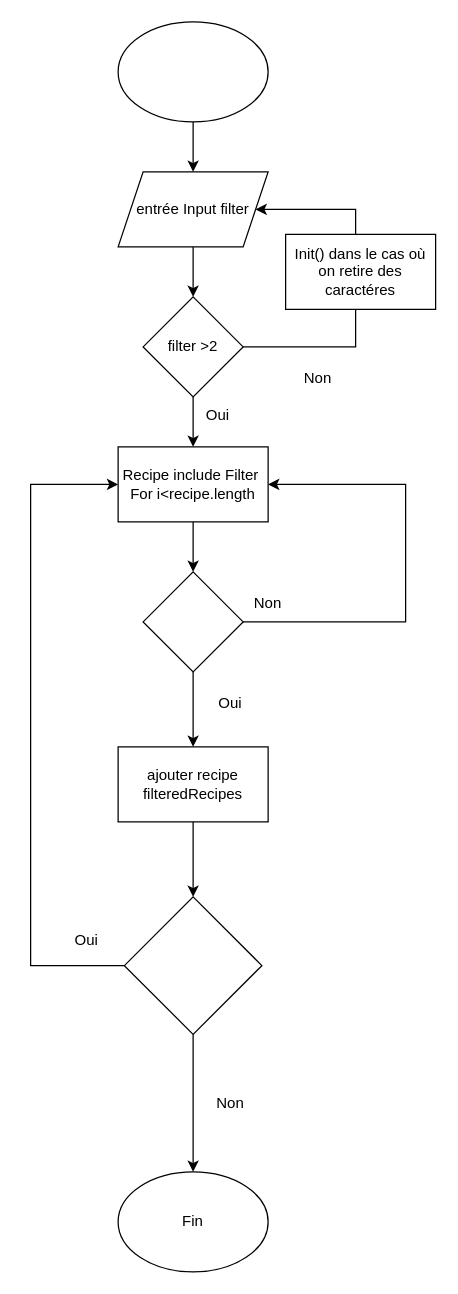
Some shapes in this 458 by 1294 pixel diagram are drawn without their labels. The shapes that lost their labels are listed below. From the top down, each one's centre as x and y in pixels, then its label:
point (192, 71): Début General search
point (192, 621): Si include
point (192, 965): < Recipe.length
